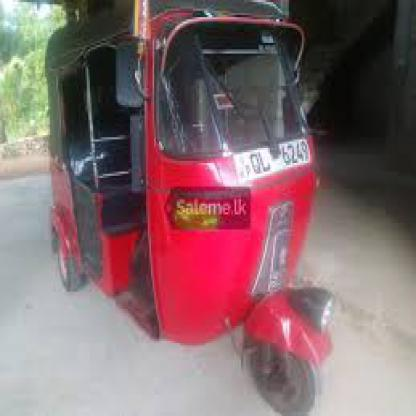tuk: (45, 0, 345, 414)
